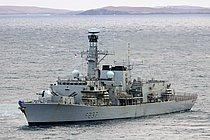MIL_Ship: (16, 26, 198, 125)
